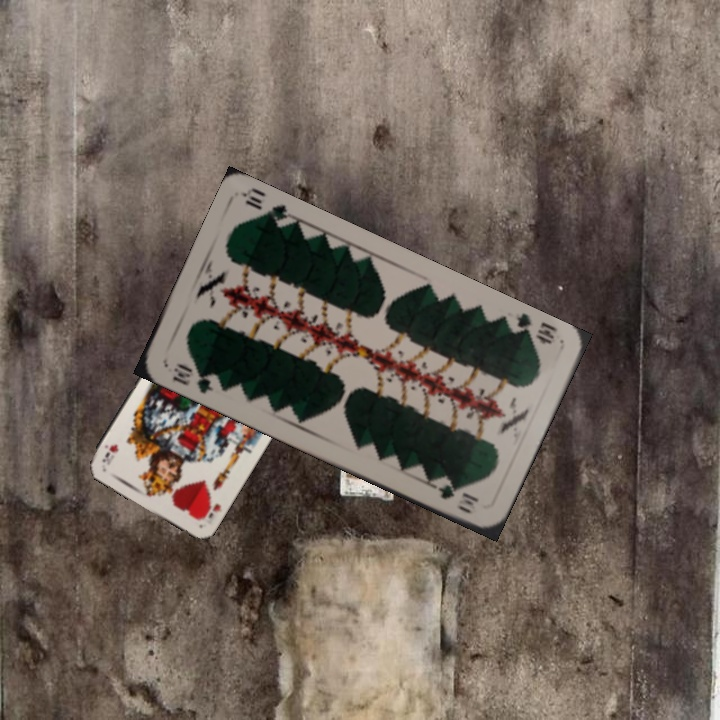G10: (503, 310, 560, 347), (168, 358, 216, 397)
HK: (195, 497, 224, 523)
